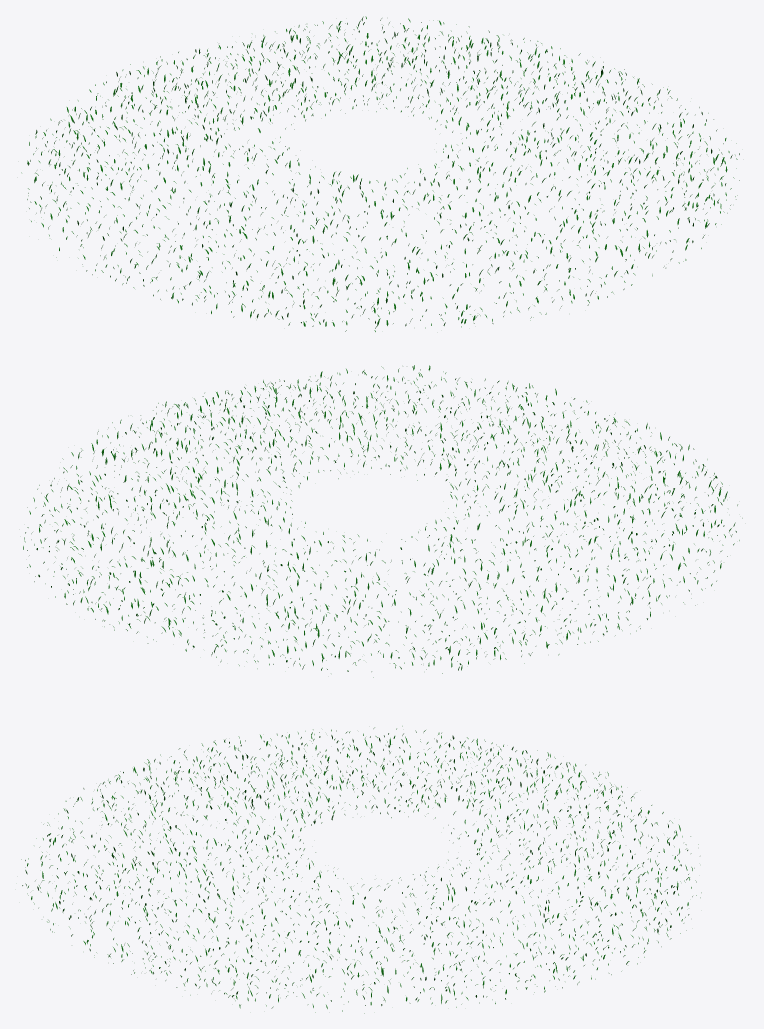
File: 02_Grass30k_01.fbx
3 views of the same model, one above another, from view 1: azimuth 30°, elevation 25°; view 2: azimuth 150°, elevation 25°; view 3: azimuth 270°, elevation 25° (orthographic). The views are drawn at different scales.
Parts seen in each view (by area): view 1: Grass6k_geo; view 2: Grass6k_geo; view 3: Grass6k_geo.
Part boxes in pixels (box(x1,y1,x2,y2)): Grass6k_geo: box(21, 16, 739, 331); Grass6k_geo: box(23, 365, 742, 677); Grass6k_geo: box(21, 726, 701, 1013).
Size of the model in its own units: 4561 by 257 by 4861.
1 material, 1 textured.
